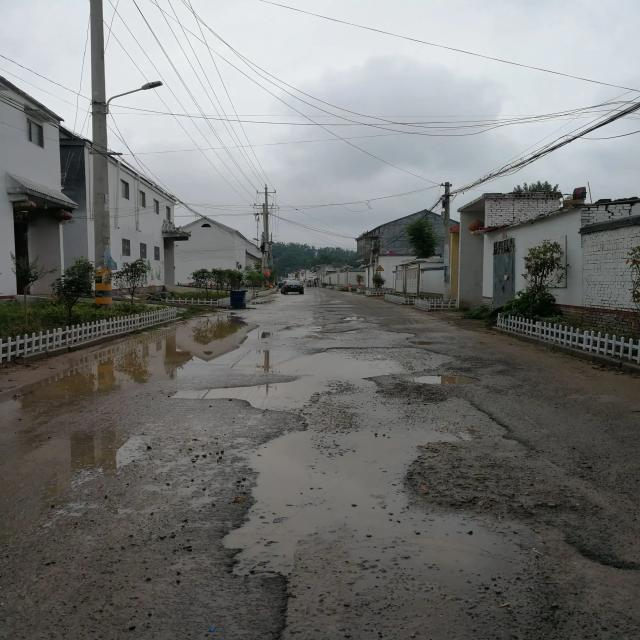Pothole: (196, 436, 640, 640), (166, 348, 492, 431), (343, 311, 374, 324)
